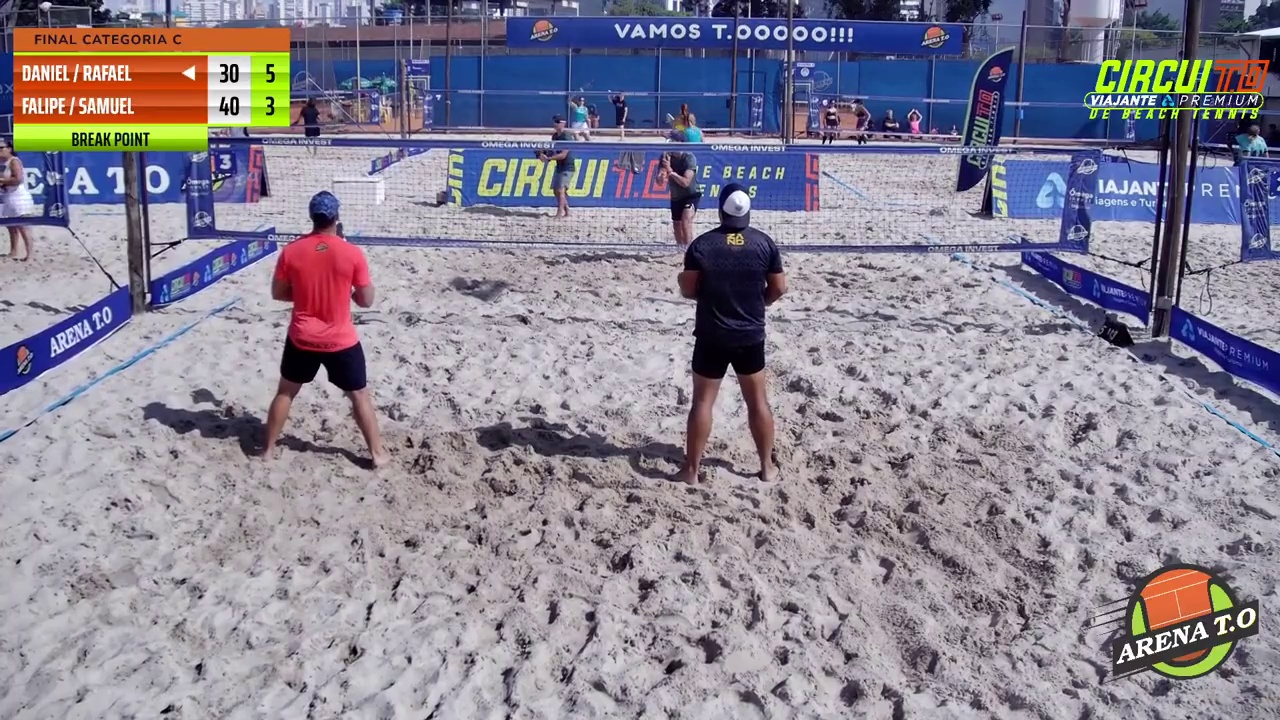court_line: (480, 0, 674, 523)
